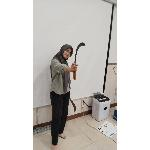Celurit: (72, 40, 88, 82)
Golok: (67, 95, 79, 114)
